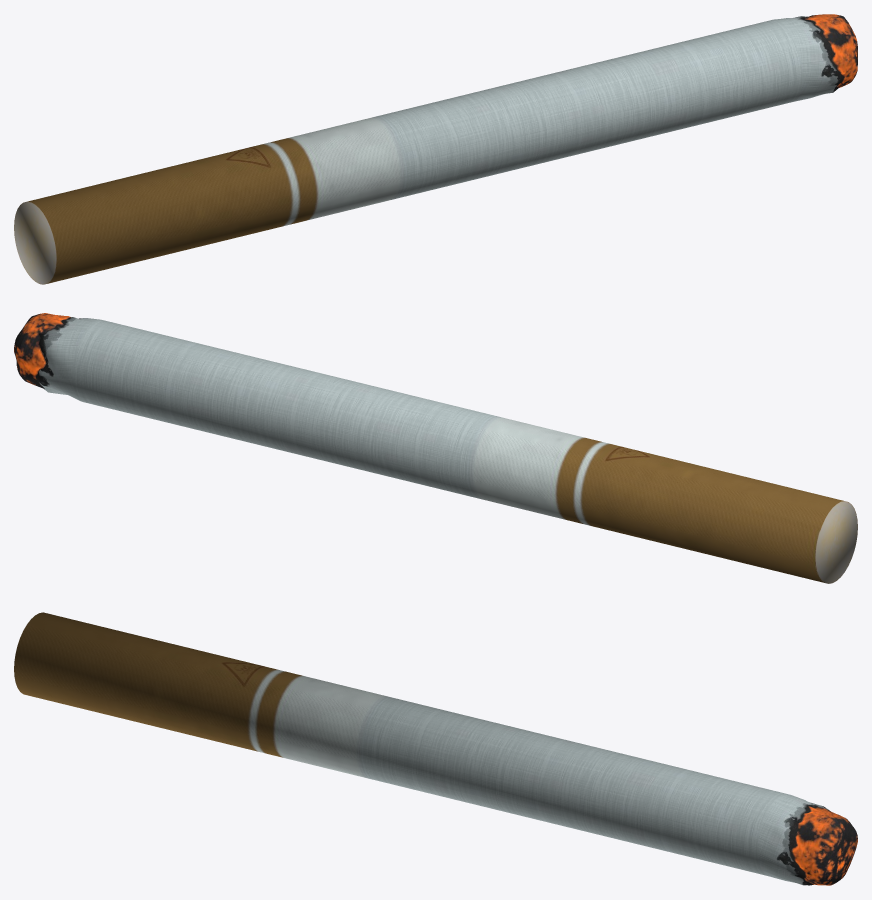
The model's file is cigarette.fbx.
3 views of the same model, one above another, from view 1: azimuth 30°, elevation 25°; view 2: azimuth 150°, elevation 25°; view 3: azimuth 330°, elevation 25° (orthographic).
Visible parts, largest first — view 1: defaultMaterial; view 2: defaultMaterial; view 3: defaultMaterial.
Part boxes in pixels (left/top/right/bottom): defaultMaterial: left=14, top=14, right=857, bottom=284; defaultMaterial: left=14, top=313, right=857, bottom=583; defaultMaterial: left=14, top=612, right=857, bottom=885.
Size of the model in its own units: 8.42 by 0.7609 by 0.7604.
